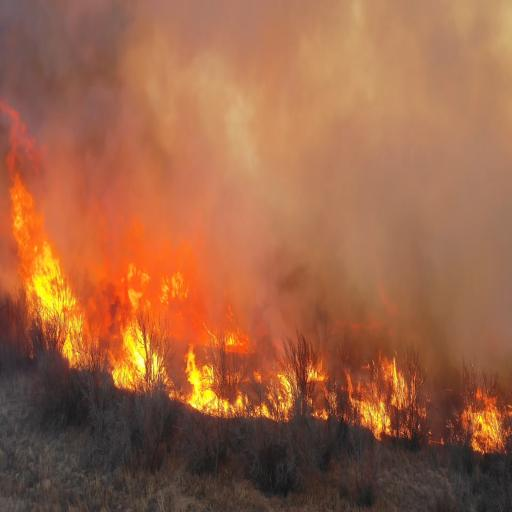fire: (0, 109, 78, 366), (185, 344, 297, 414), (115, 278, 161, 394), (356, 360, 406, 442), (471, 377, 512, 450)
smoke: (109, 0, 512, 163)
